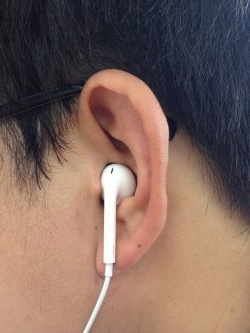earphone: (78, 68, 169, 278)
